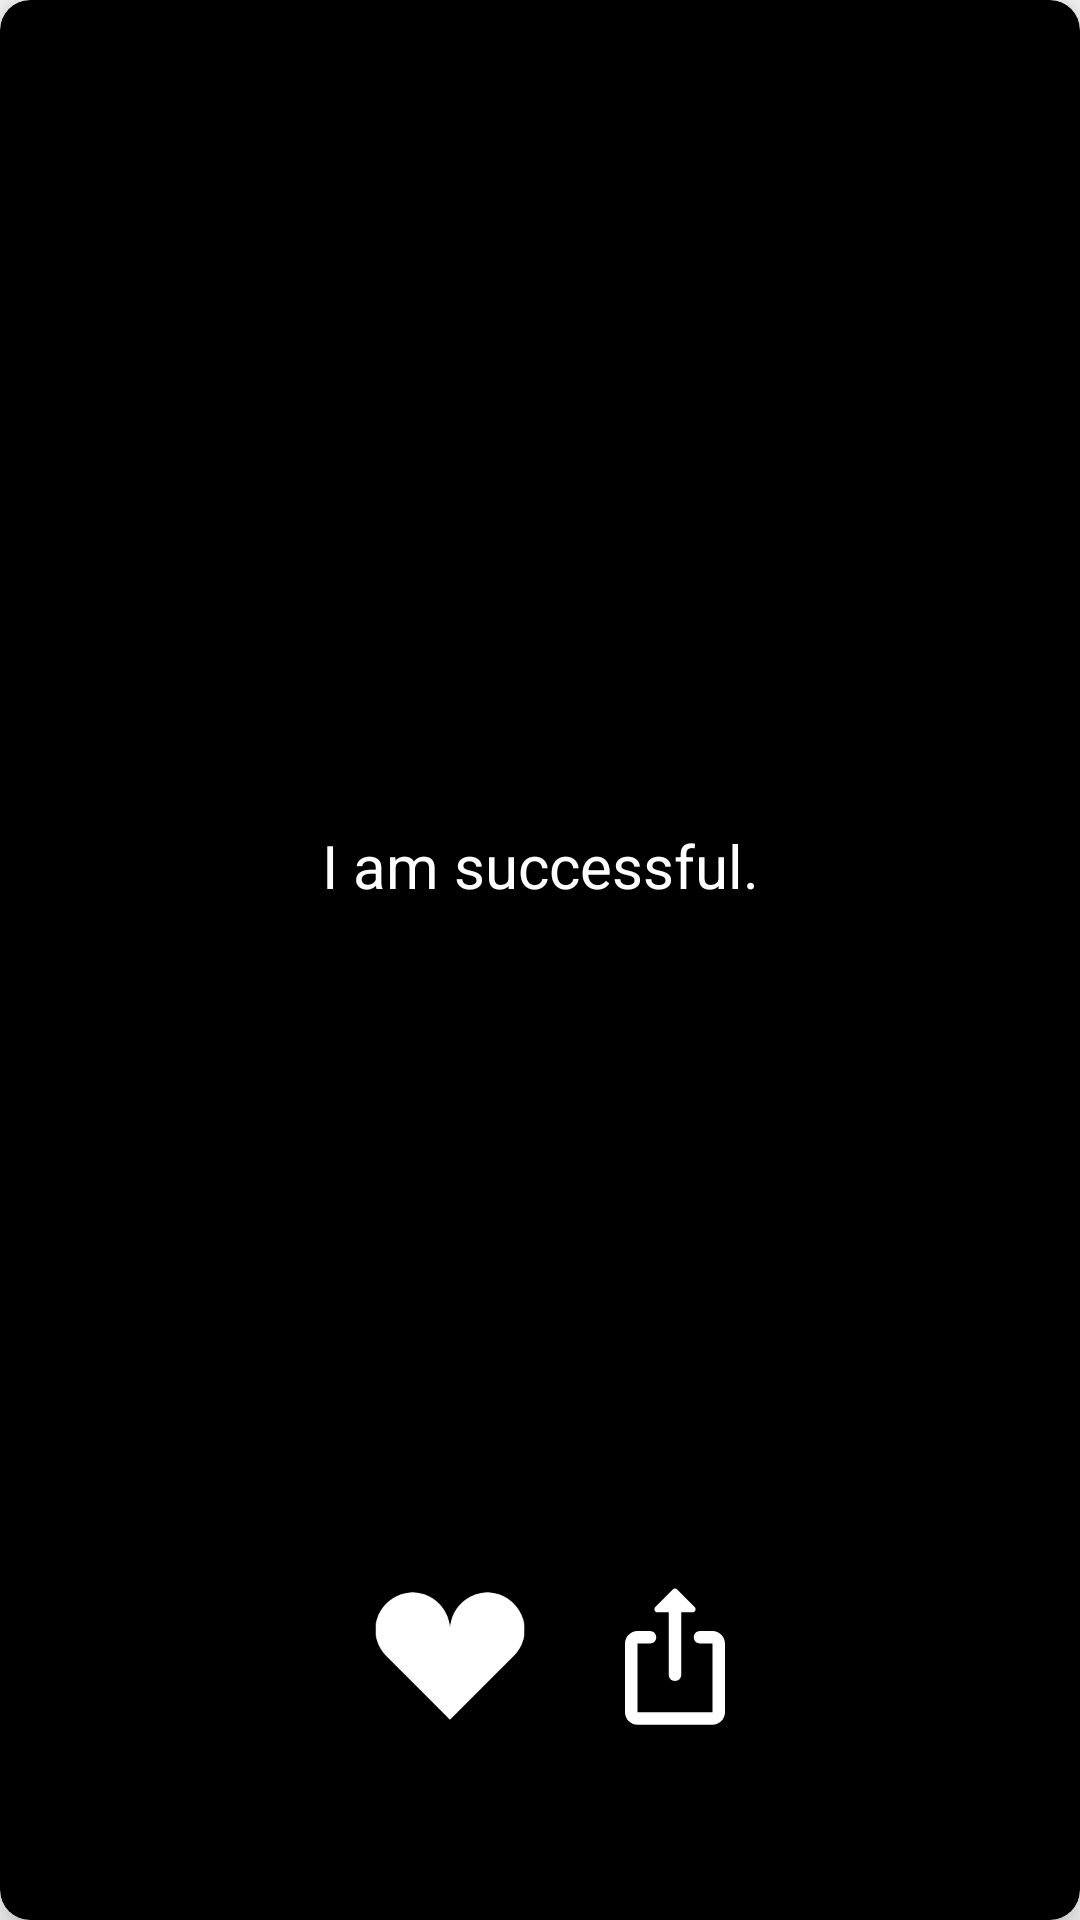

Named icons in this screenshot (1080×1920) and their centers, [x,y]:
heart: [450,1656]
share: [675,1656]
